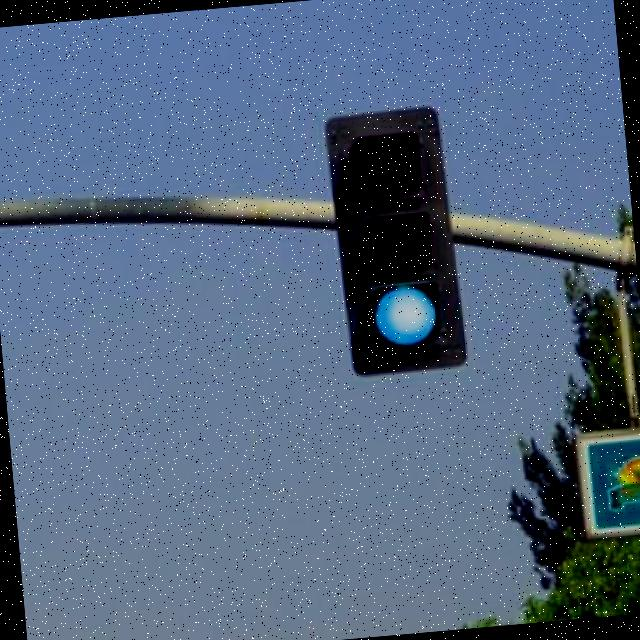Zielone swiatlo: (338, 125, 458, 367)
